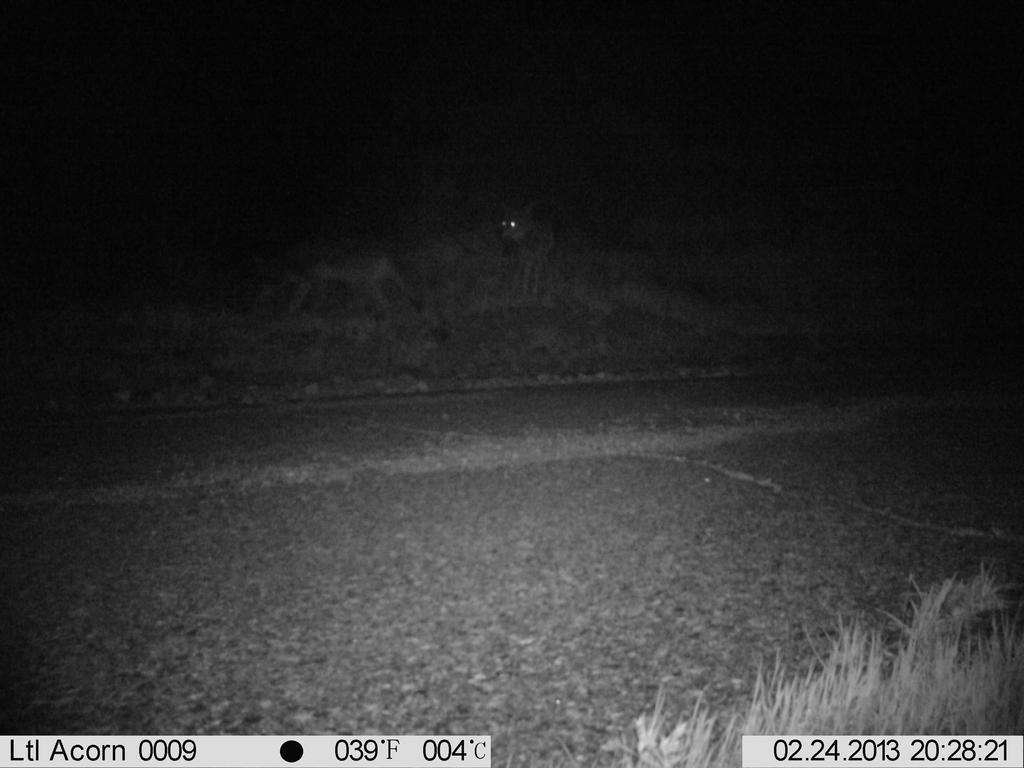coyote: (244, 241, 419, 326), (497, 187, 571, 299)
